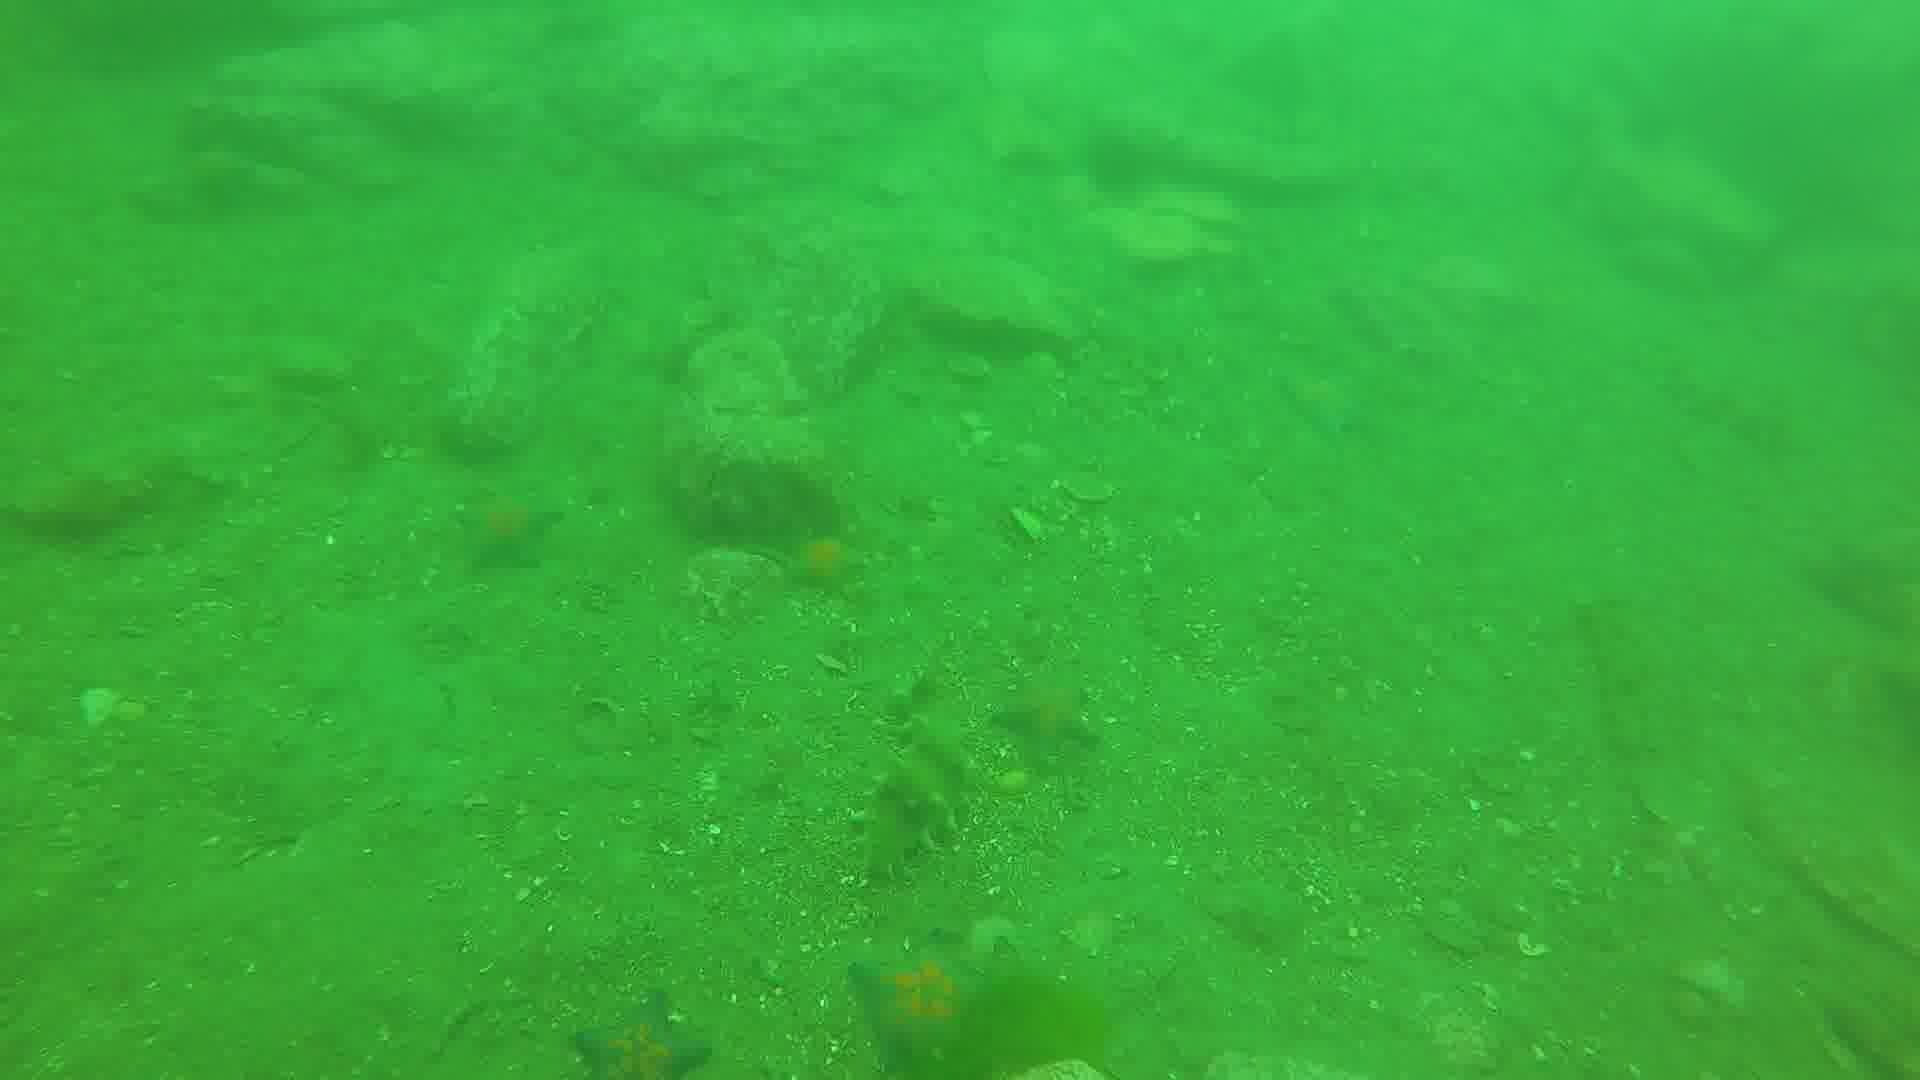holothurian: (849, 700, 978, 889), (1660, 338, 1818, 458)
starfish: (860, 928, 996, 1062), (580, 986, 715, 1080), (456, 483, 560, 574), (992, 673, 1097, 761), (773, 527, 872, 597)
